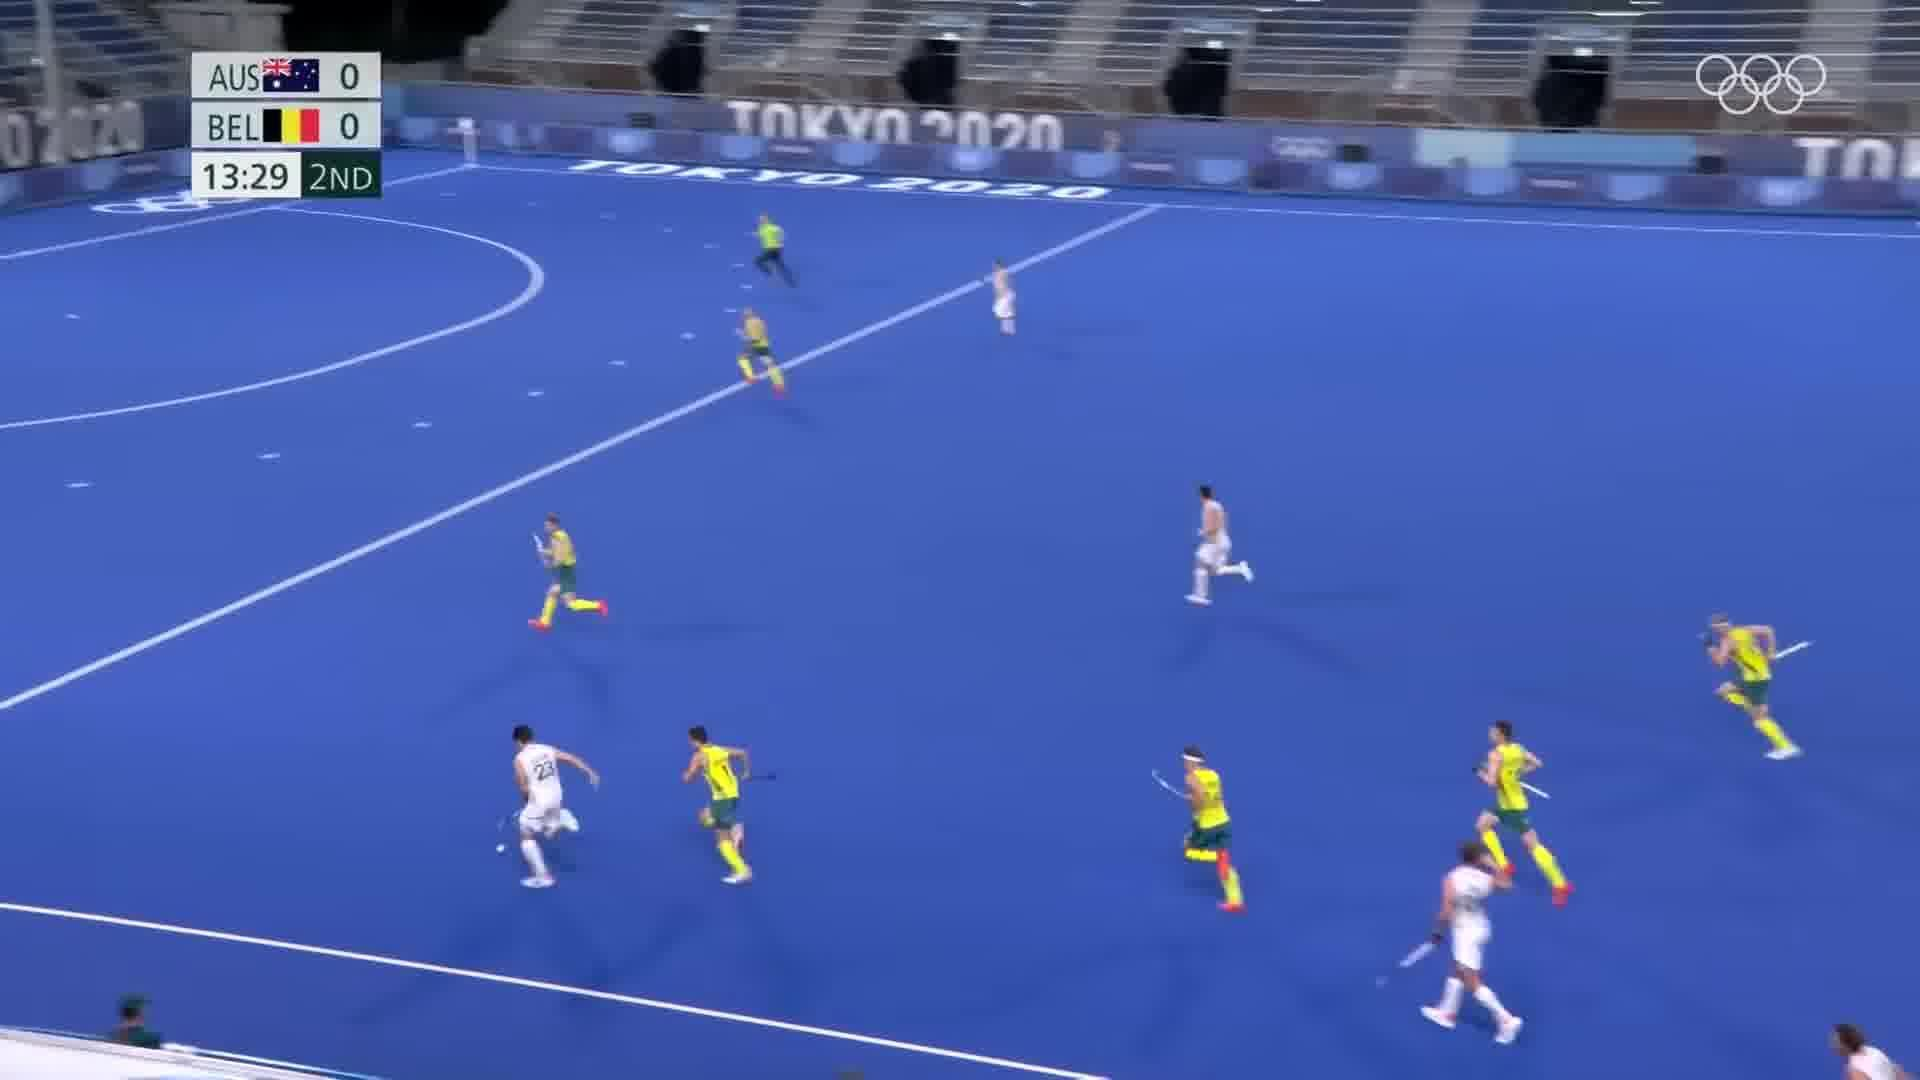ball: (487, 836, 513, 860)
